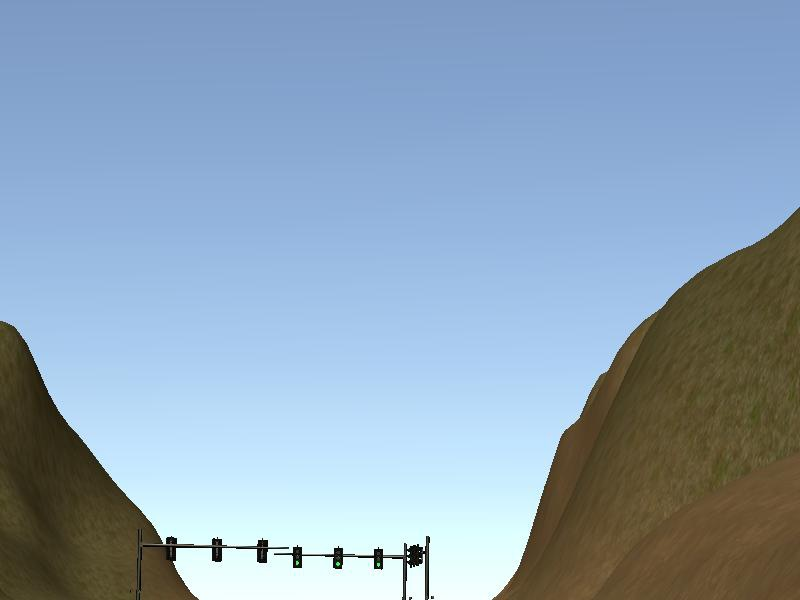green_light: (293, 546, 303, 569), (332, 548, 342, 568), (375, 549, 383, 570)
